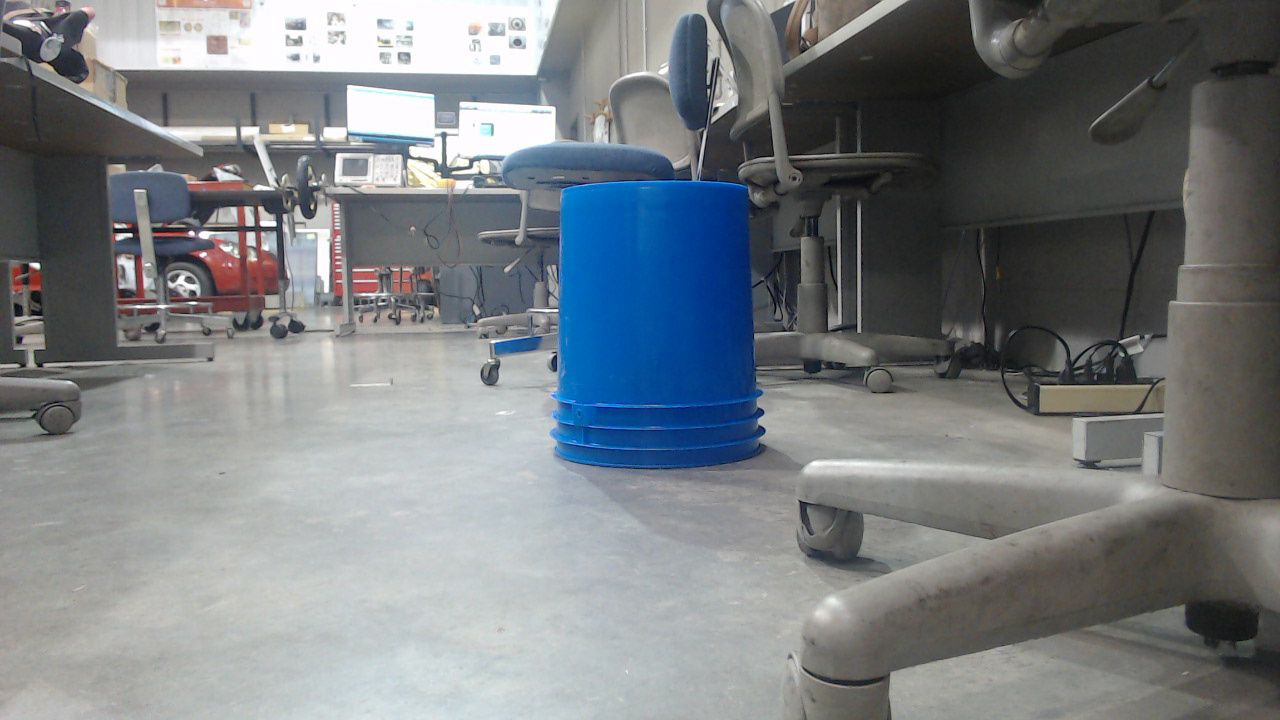blue_bucket: (550, 181, 774, 480)
